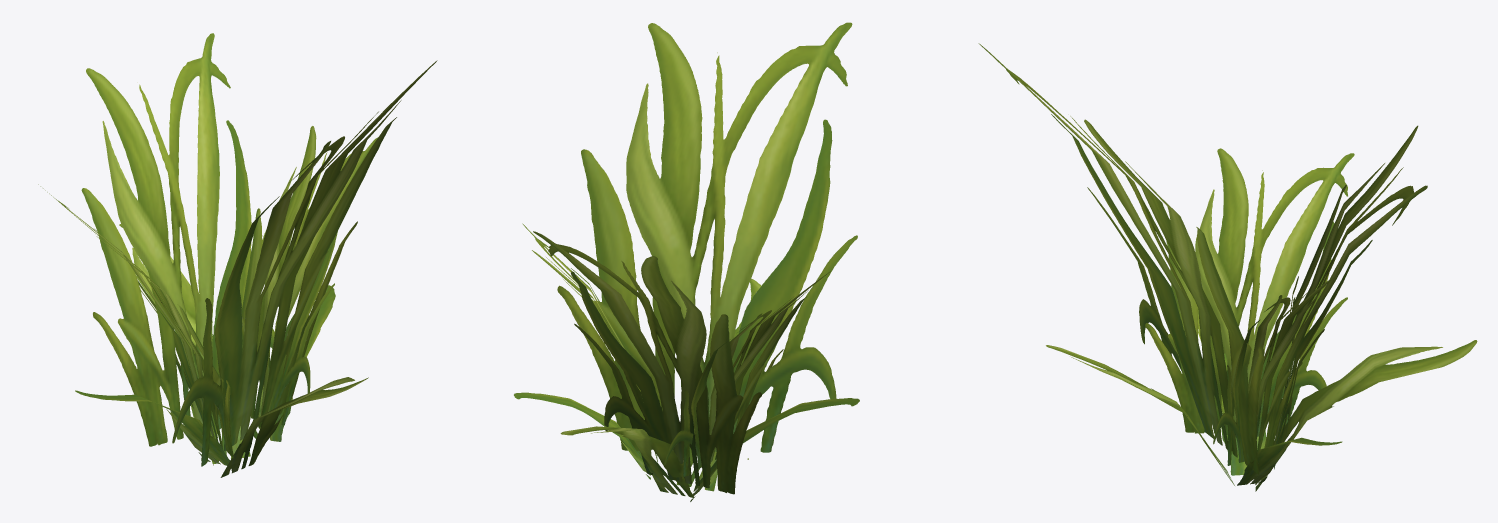
File: TYJ_CaoM_01.fbx
3 views of the same model, side by side, from view 1: azimuth 30°, elevation 25°; view 2: azimuth 150°, elevation 25°; view 3: azimuth 270°, elevation 25° (orthographic). The views are drawn at different scales.
Parts seen in each view (by area): view 1: TYJ_CaoM_01; view 2: TYJ_CaoM_01; view 3: TYJ_CaoM_01.
Part boxes in pixels (x1,y1,x2,y2): TYJ_CaoM_01: (38,33,437,477); TYJ_CaoM_01: (514,22,859,501); TYJ_CaoM_01: (978,43,1477,491).
Size of the model in its own units: 174 by 203 by 234.
